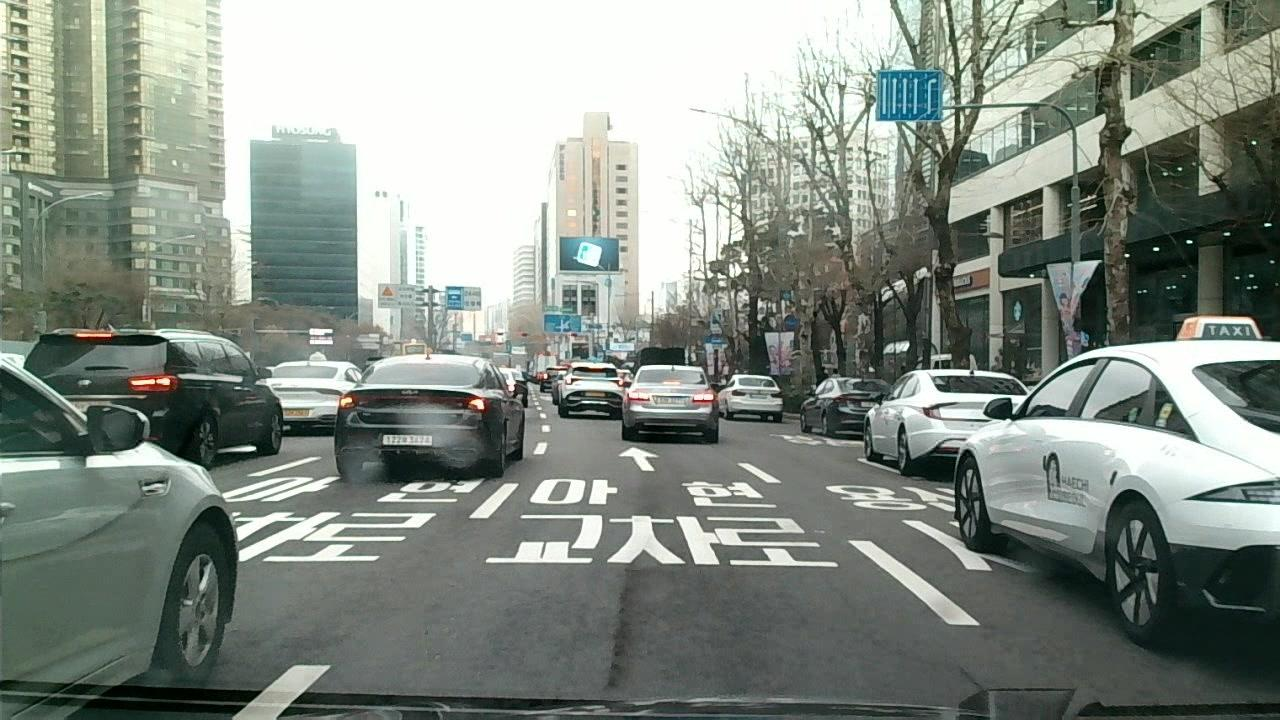banner: (603, 561, 640, 688)
